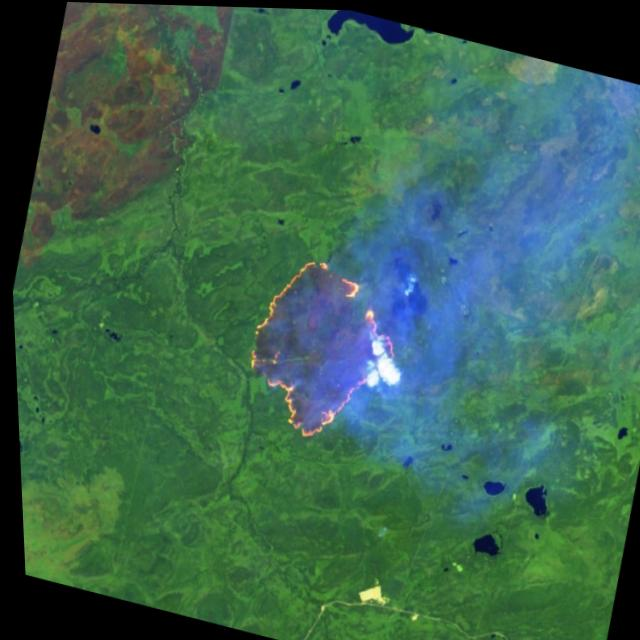fire: (222, 233, 417, 460)
